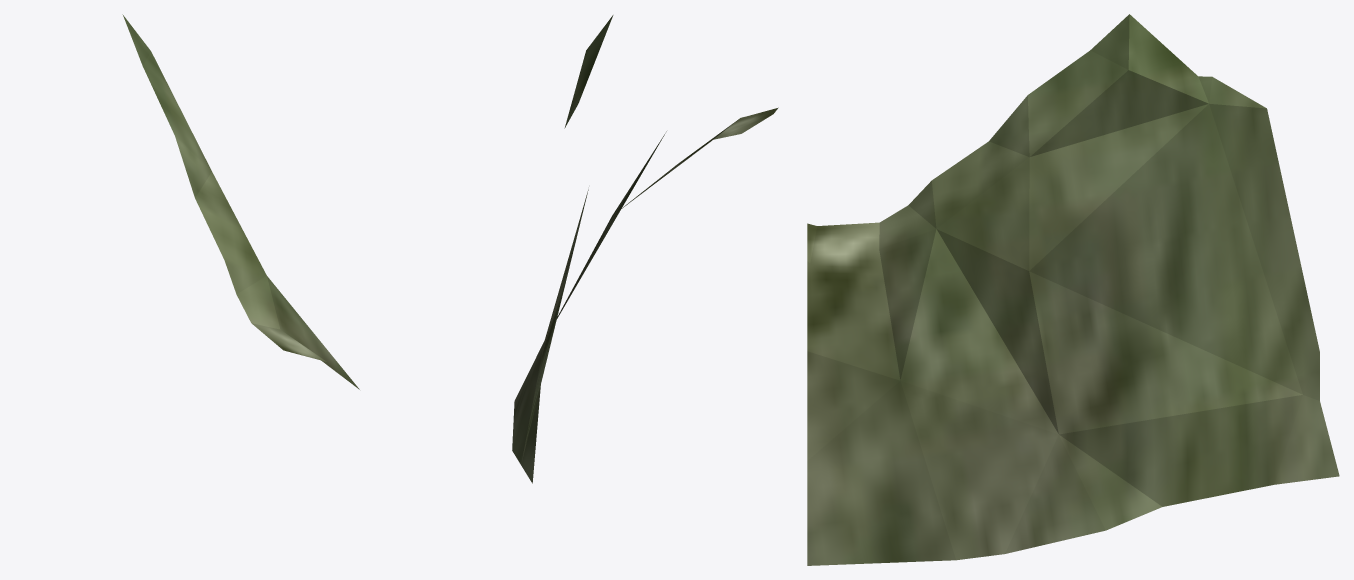
The picture shows the model from 3 angles, left to right: view 1: azimuth 30°, elevation 25°; view 2: azimuth 150°, elevation 25°; view 3: azimuth 270°, elevation 25°; orthographic projection. The views are drawn at different scales.
Bounding box in the file's own units: 0.3278 × 0.7889 × 0.8233.
1 material, 1 textured.
